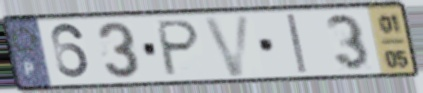3: (325, 12, 373, 72), (95, 20, 141, 81)
6: (49, 21, 93, 83)
I: (284, 12, 310, 75)
P: (156, 18, 203, 79)
V: (200, 12, 254, 80)
